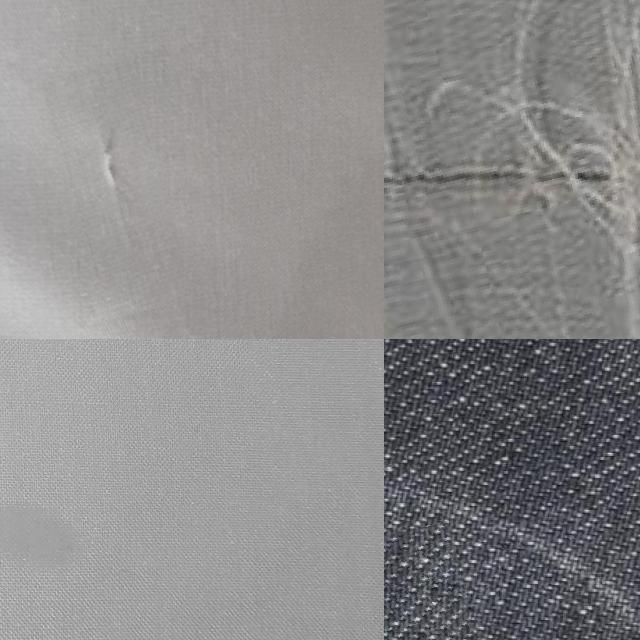Thread_other: (384, 0, 640, 339), (54, 60, 180, 318)
